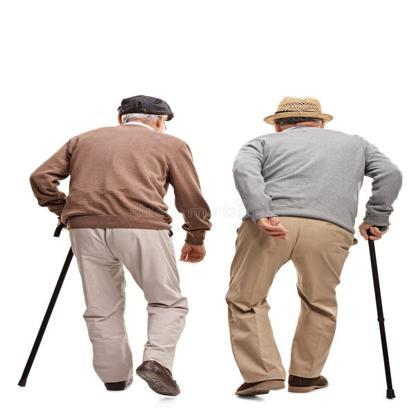person: (21, 91, 216, 401), (222, 87, 405, 404)
